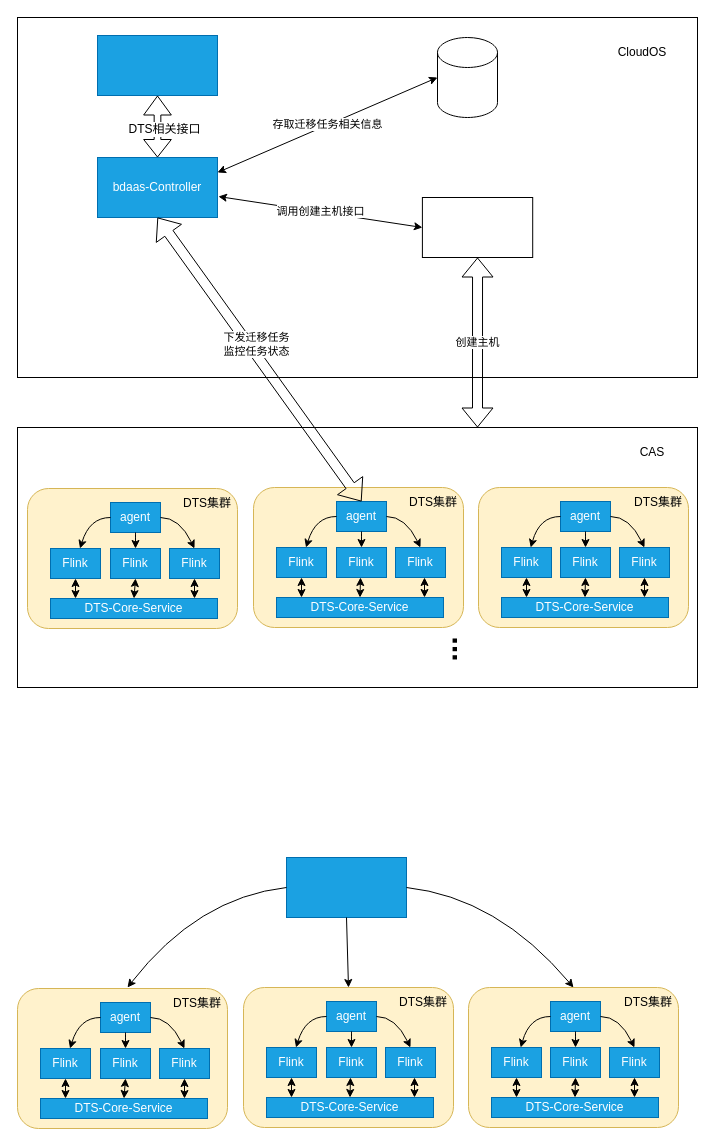
This 715x1146 diagram has some shape labels left out. The box of each missing label's shape, as (x1, y1, x2, y2) in pixels:
bdaas服务: (286, 856, 406, 918)
MySQL: (436, 36, 498, 118)
portal(DTS控制台): (96, 34, 218, 96)
sahara: (421, 196, 533, 258)
